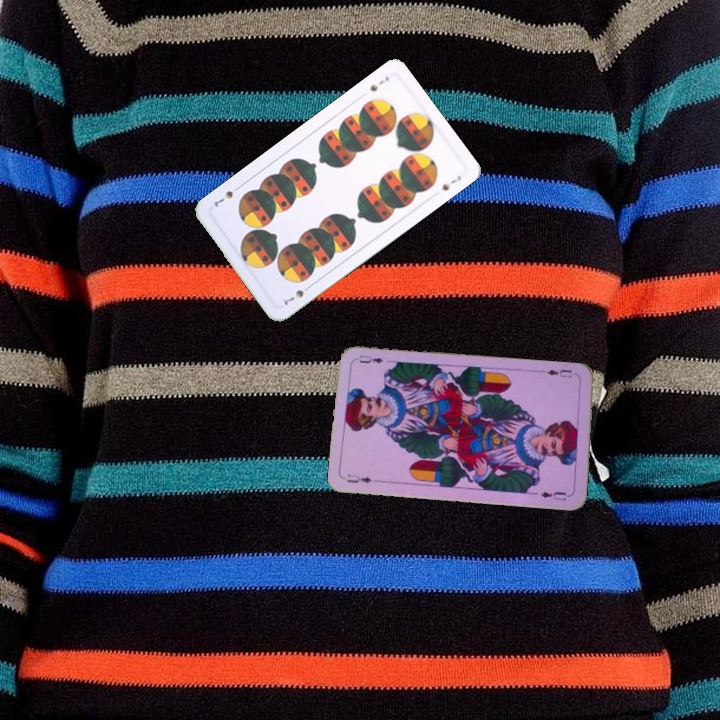EU: (540, 365, 580, 380), (343, 470, 374, 486)
S7: (280, 281, 314, 308), (365, 72, 391, 94)
